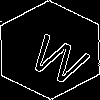W: (25, 25, 97, 88)
